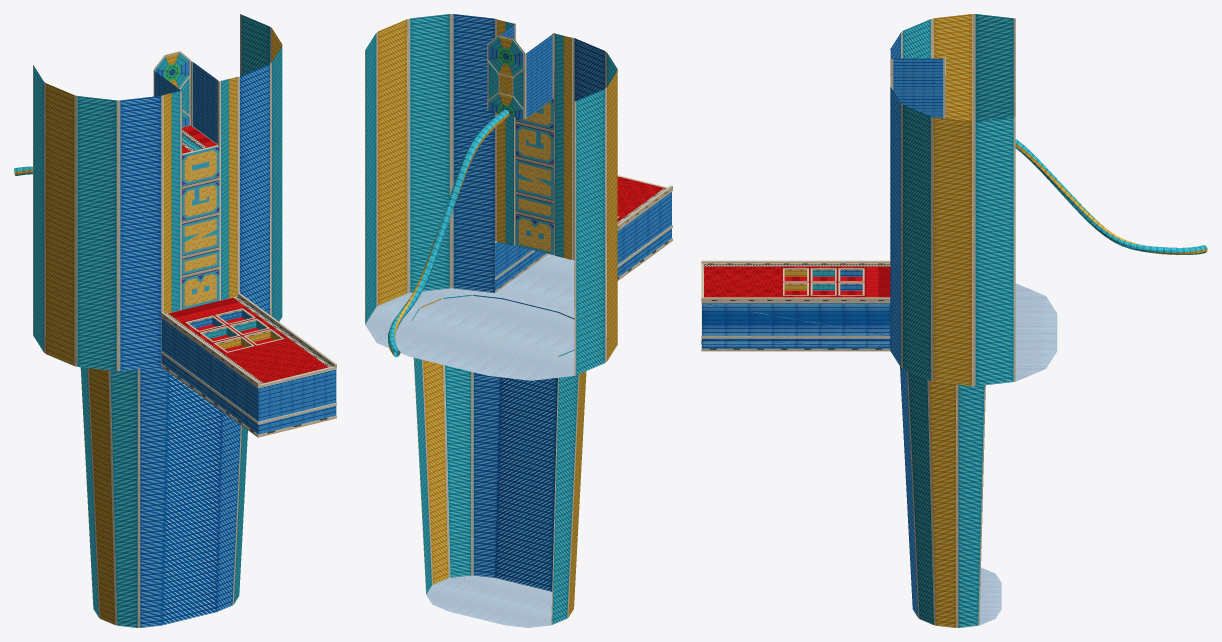
The model's file is 2P_Bingo_highway1.obj.
The picture shows the model from 3 angles, left to right: view 1: azimuth 30°, elevation 25°; view 2: azimuth 150°, elevation 25°; view 3: azimuth 270°, elevation 25°; orthographic projection. The views are drawn at different scales.
Visible parts, largest first — view 1: Object_2, obj1; view 2: Object_2, obj1; view 3: Object_2, obj1.
Boxes of the visible parts, x1=… form: Object_2: x1=14, y1=14, x2=336, y2=627; obj1: x1=166, y1=125, x2=333, y2=385; Object_2: x1=365, y1=14, x2=672, y2=627; obj1: x1=617, y1=175, x2=667, y2=223; Object_2: x1=701, y1=14, x2=1207, y2=627; obj1: x1=701, y1=264, x2=890, y2=297.
Bounding box in the file's own units: 916 × 2144 × 1821.
